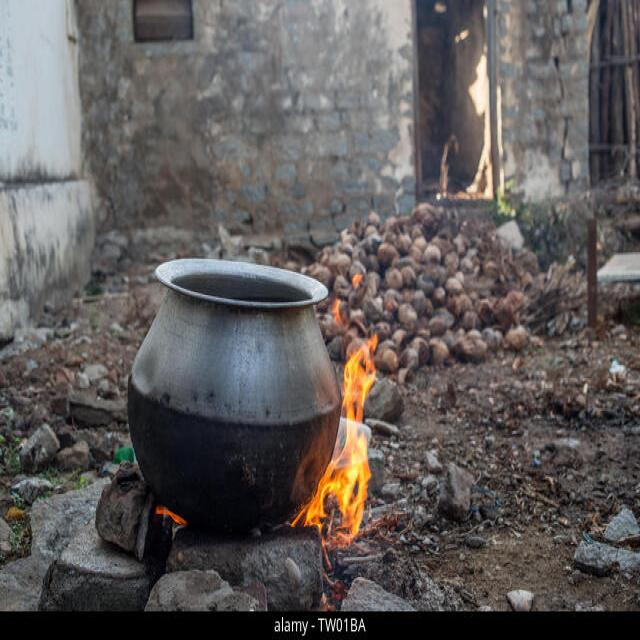fire: (292, 335, 378, 548)
